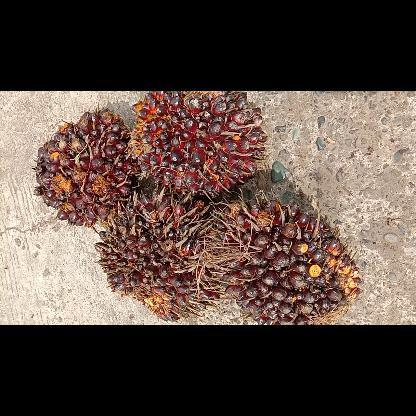Kurang masak: (204, 196, 364, 324), (91, 186, 227, 324), (128, 90, 270, 202), (29, 107, 141, 230)
